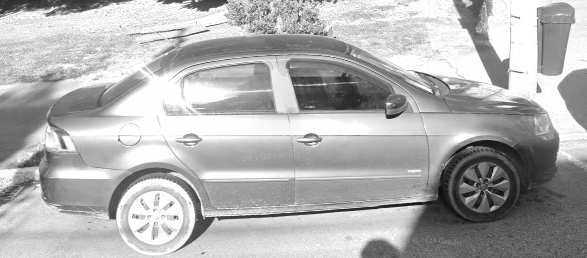car: (37, 32, 560, 256)
